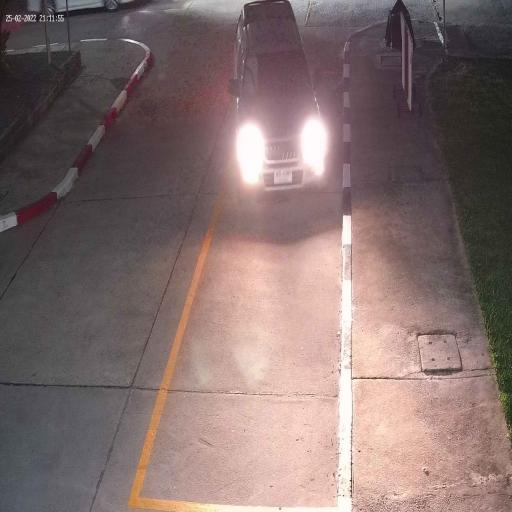car: (232, 0, 325, 194)
